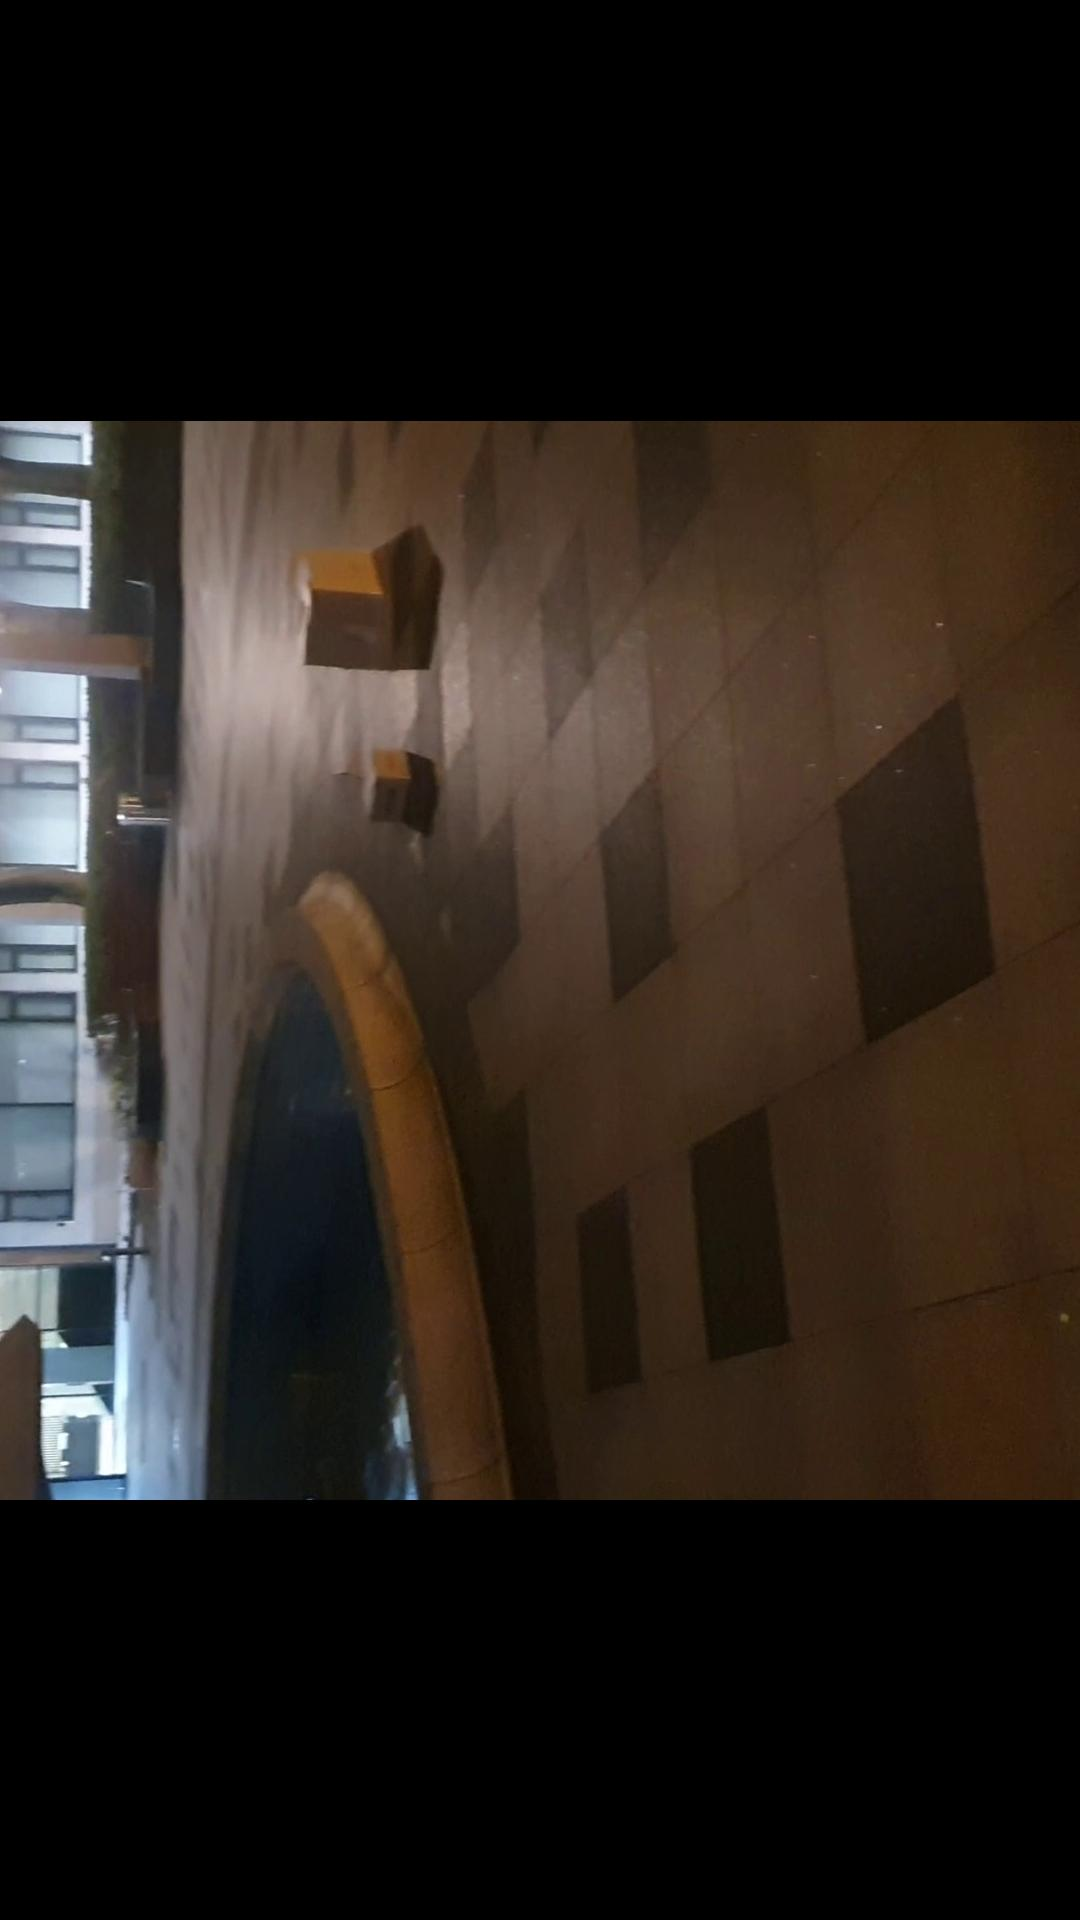Box: (285, 543, 415, 679), (349, 756, 417, 829)
